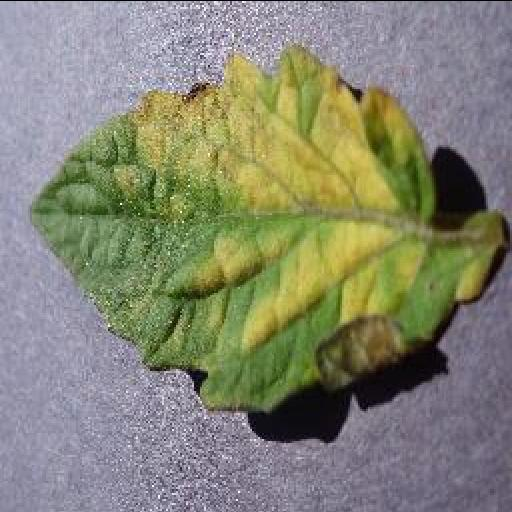disease_tomato: (26, 42, 512, 416)
